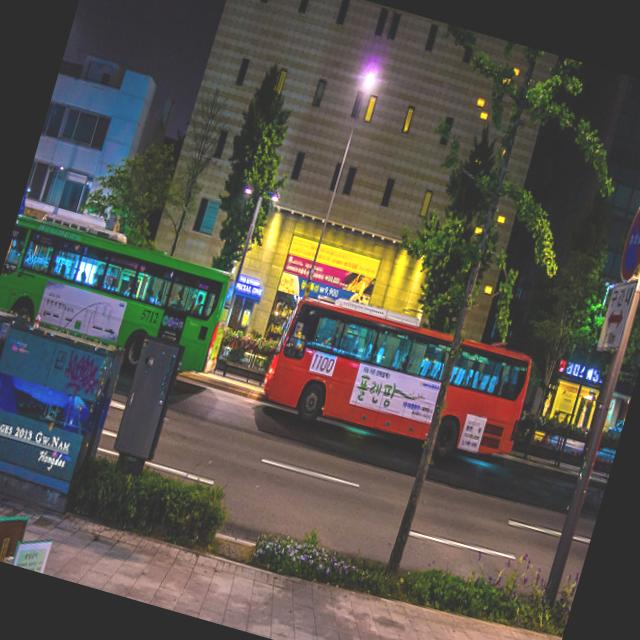Vehicle: (255, 282, 540, 478), (0, 210, 239, 393)
